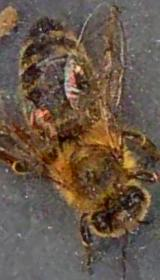varroa_mite: (21, 96, 59, 130)
